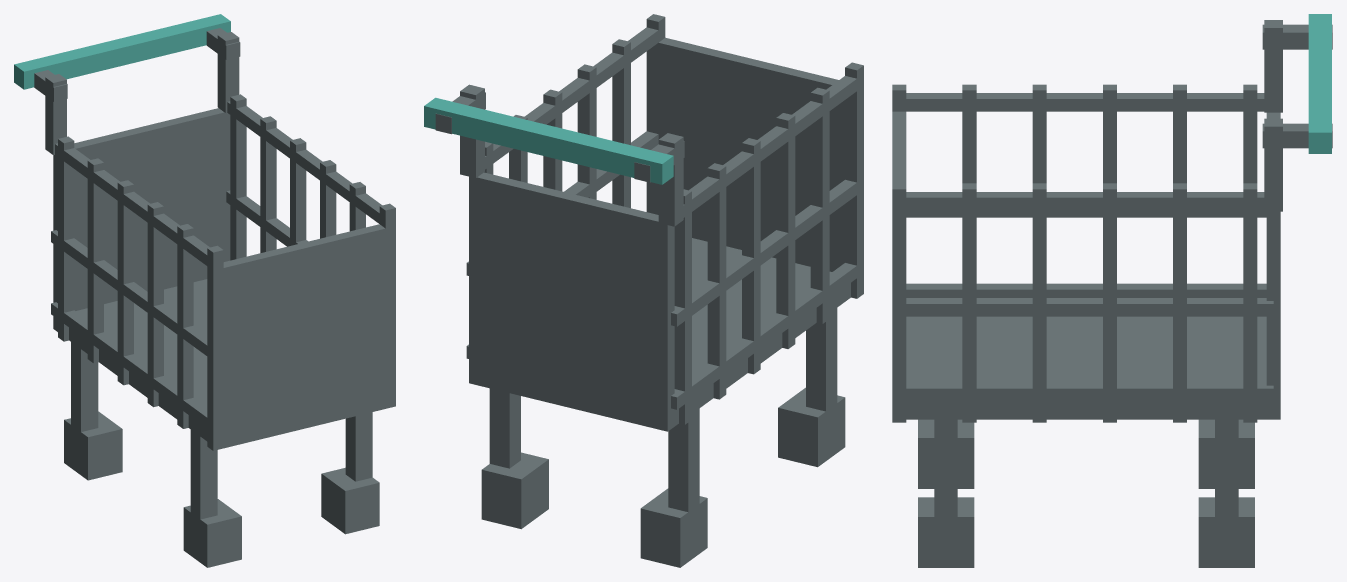
The model's file is supermarket-operations-shopping-trolley-9248600c.glb.
3 renders of one model, left to right at view 1: azimuth 30°, elevation 25°; view 2: azimuth 150°, elevation 25°; view 3: azimuth 270°, elevation 25°, orthographic. The views are drawn at different scales.
Parts seen in each view (by area): view 1: shopping-trolley; view 2: shopping-trolley; view 3: shopping-trolley.
Boxes of the visible parts, left/top/right/bottom form: shopping-trolley: left=14, top=14, right=395, bottom=567; shopping-trolley: left=424, top=14, right=863, bottom=567; shopping-trolley: left=892, top=14, right=1332, bottom=567.
Size of the model in its own units: 0.6 by 1.05 by 0.9412.
